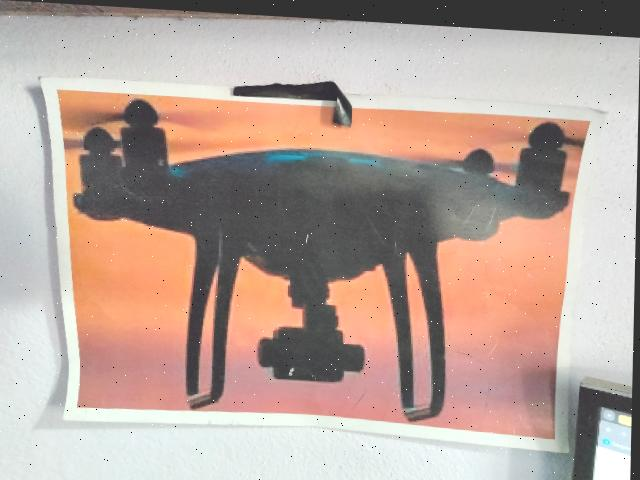drone: (69, 92, 575, 415)
